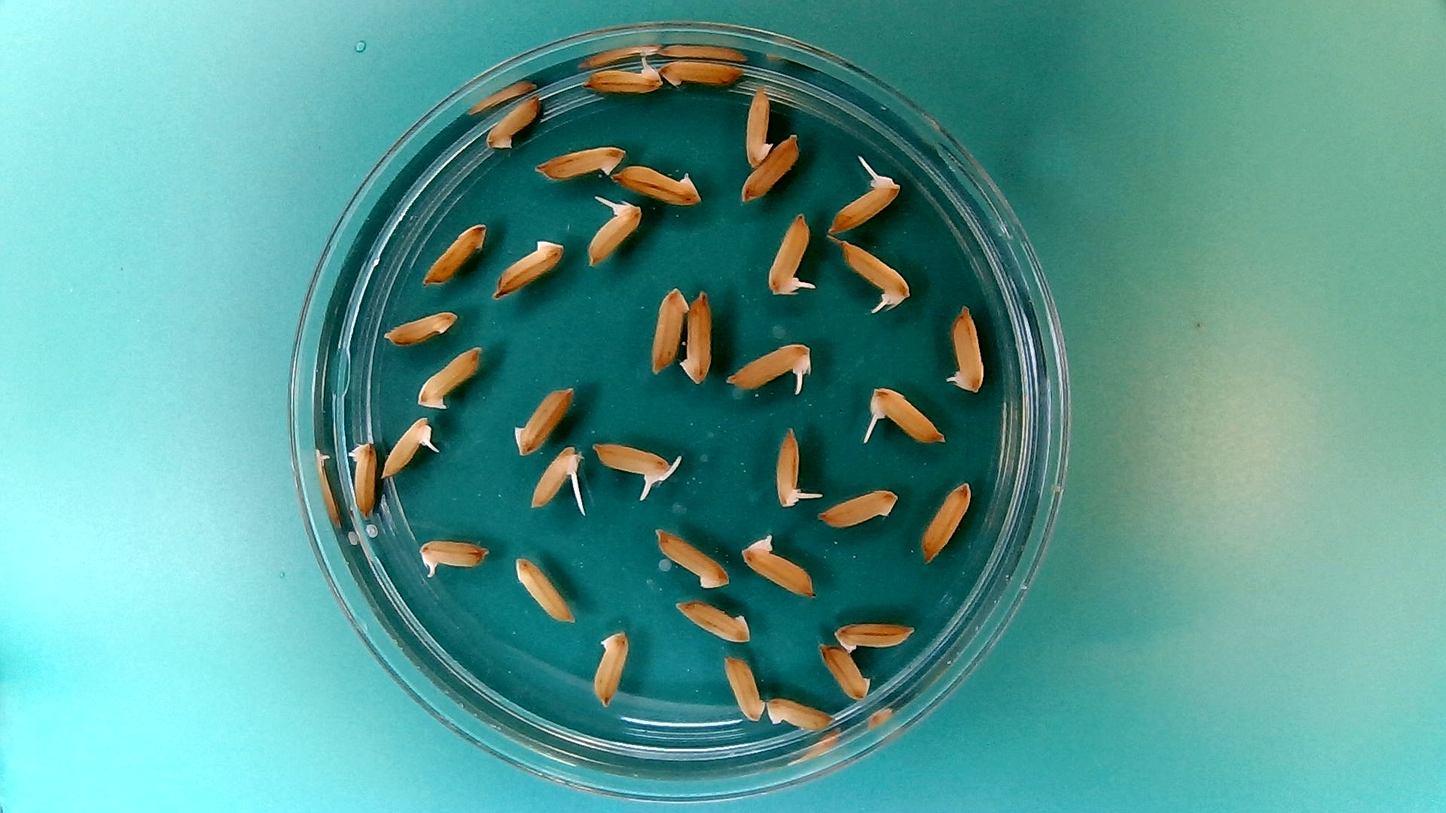no: (651, 524, 732, 590), (510, 380, 577, 458), (920, 476, 974, 565), (420, 218, 488, 288), (491, 239, 565, 302), (514, 553, 576, 626), (612, 160, 703, 209), (416, 348, 484, 412), (740, 133, 803, 202), (646, 282, 691, 377), (532, 139, 628, 183), (944, 300, 986, 397), (672, 598, 754, 645), (677, 285, 714, 388), (816, 487, 898, 533), (484, 91, 545, 151), (814, 641, 873, 702), (590, 626, 632, 708), (721, 650, 766, 723), (740, 81, 775, 170), (345, 434, 379, 521), (383, 310, 460, 348), (658, 57, 746, 90), (834, 621, 918, 653), (764, 696, 834, 732)
yes: (834, 239, 913, 312), (865, 383, 950, 448), (738, 531, 819, 599), (729, 337, 816, 392), (764, 209, 815, 299), (825, 174, 898, 234), (587, 197, 645, 271), (592, 443, 673, 489), (380, 416, 432, 480), (415, 536, 491, 579), (529, 448, 580, 511), (582, 59, 664, 95), (771, 428, 804, 508)
